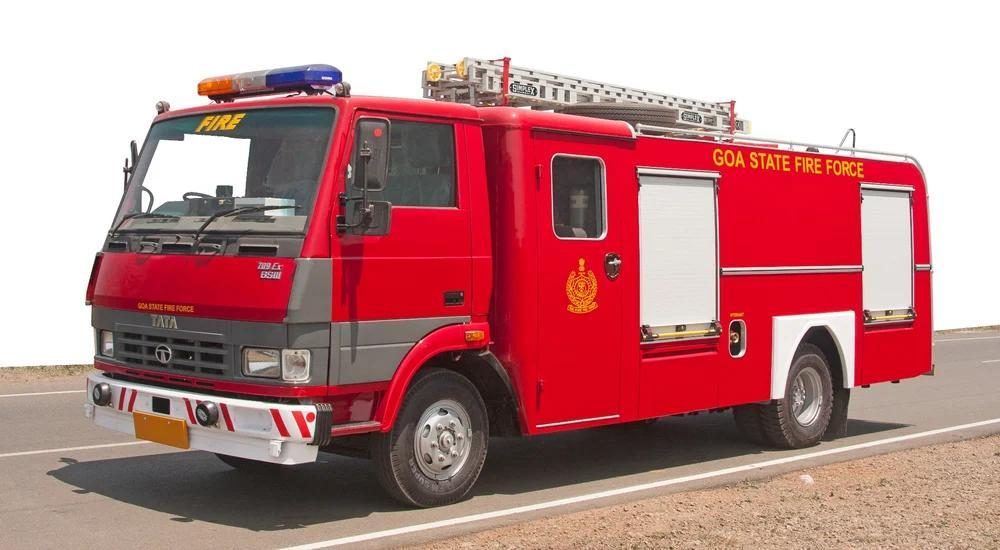Fire-engine: (87, 56, 937, 510), (420, 56, 763, 139), (201, 65, 351, 103), (551, 249, 607, 323), (794, 152, 873, 187), (187, 107, 257, 139)
